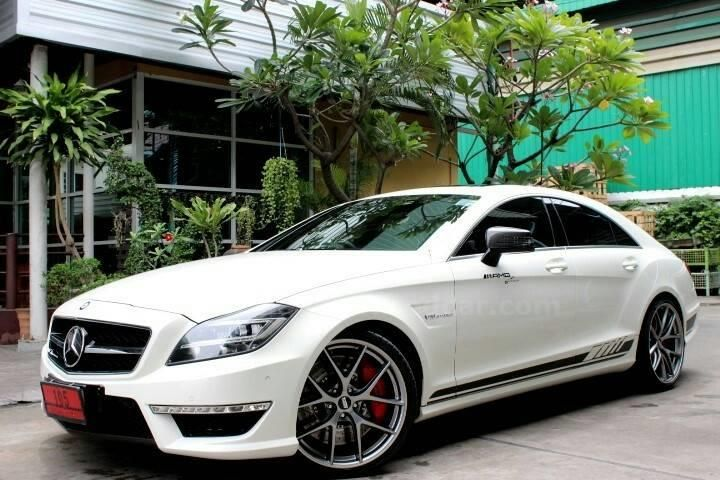sedan: (35, 181, 702, 474)
